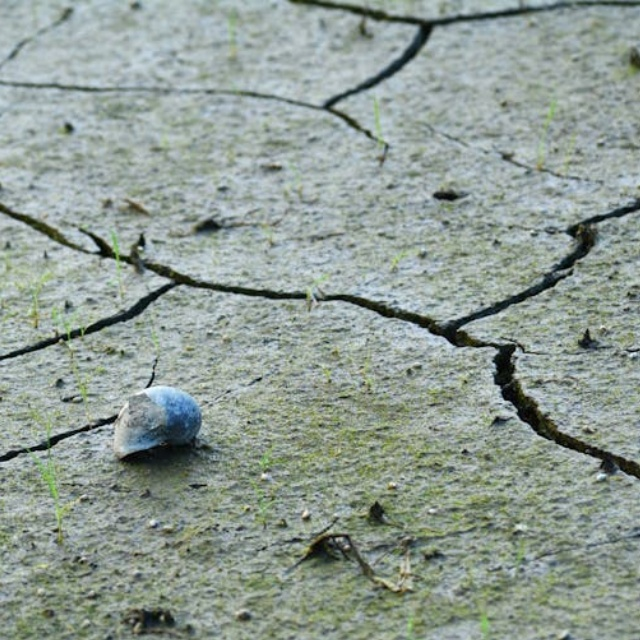深大裂缝: (314, 224, 640, 626)
细微裂纹: (0, 53, 394, 151), (0, 268, 270, 356)
